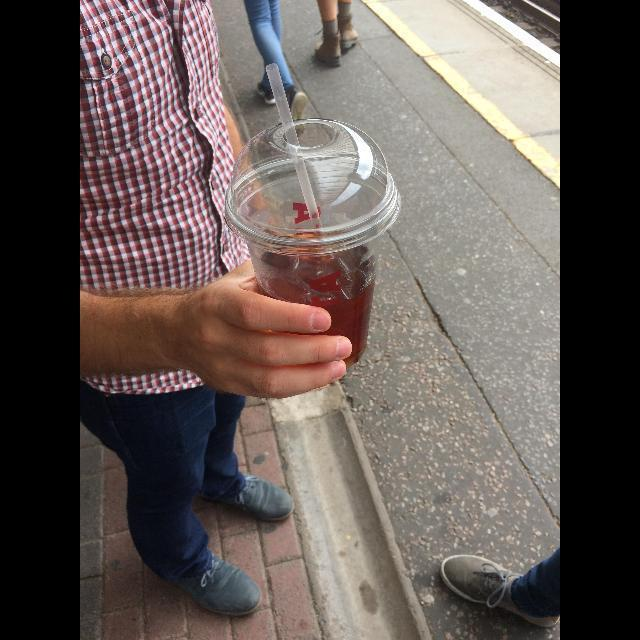Plastic: (227, 160, 393, 368), (223, 118, 401, 254), (266, 64, 326, 238)
